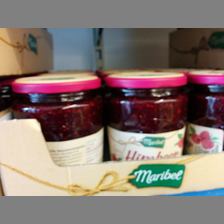jam: (10, 75, 105, 166), (105, 73, 191, 161)
